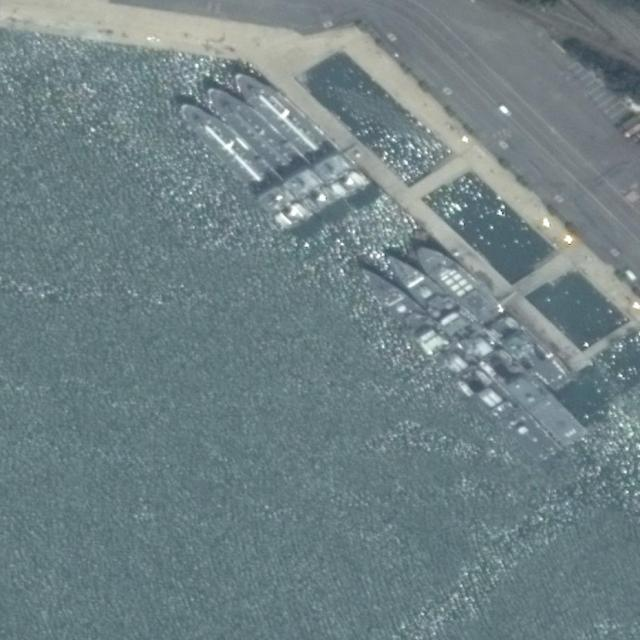Frigate: (378, 242, 586, 454), (354, 257, 562, 466)
Landing: (169, 93, 332, 248), (198, 78, 360, 231), (225, 63, 385, 213)
Other Warship: (414, 233, 579, 401)
